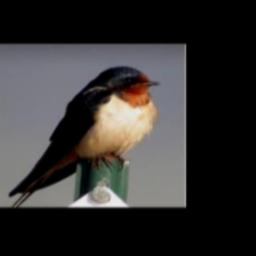Swallow: (8, 66, 161, 207)
